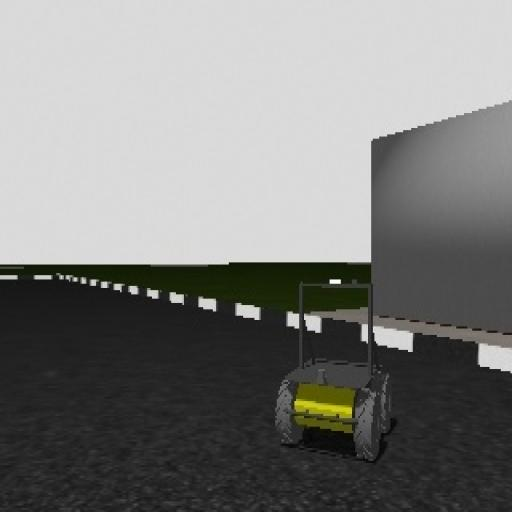huskya200: (258, 272, 405, 462)
